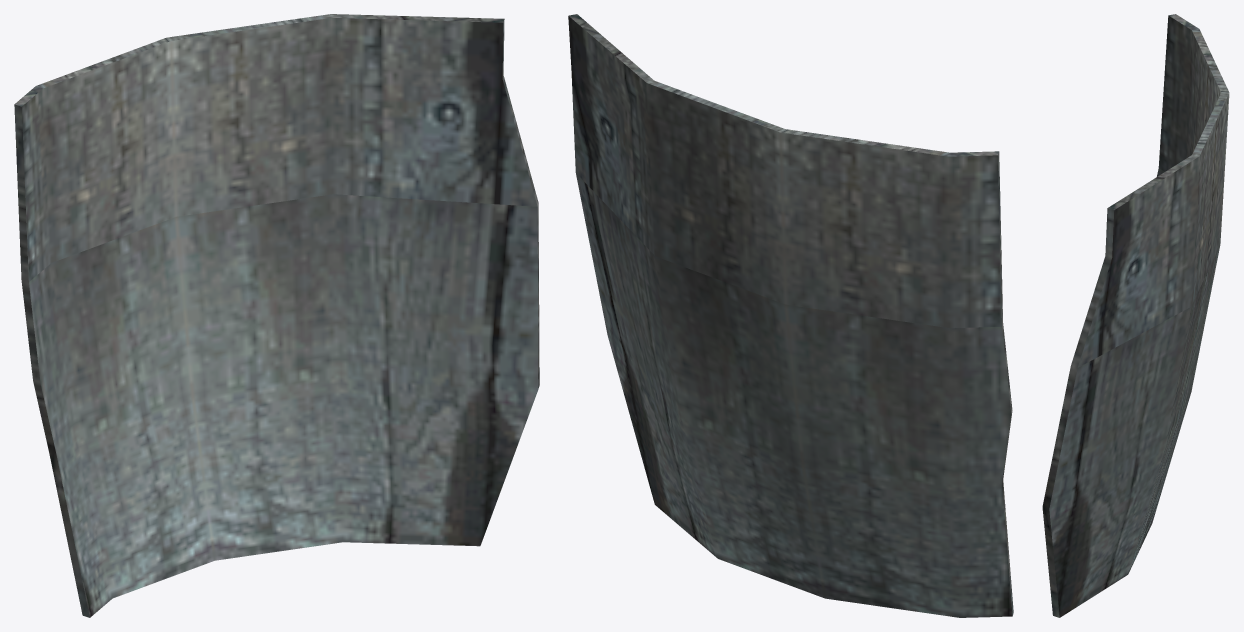
The model's file is flower_barrel_dead_p7.glb.
3 views of the same model, side by side, from view 1: azimuth 30°, elevation 25°; view 2: azimuth 150°, elevation 25°; view 3: azimuth 270°, elevation 25° (orthographic). The views are drawn at different scales.
Parts seen in each view (by area): view 1: flower_barrel_dead_p7; view 2: flower_barrel_dead_p7; view 3: flower_barrel_dead_p7.
Boxes of the visible parts, x1,y1,x2,y2 form: flower_barrel_dead_p7: (14,14,539,617); flower_barrel_dead_p7: (568,14,1013,617); flower_barrel_dead_p7: (1042,14,1229,617).
Size of the model in its own units: 0.4414 by 0.439 by 0.1727.
1 material, 1 textured.
